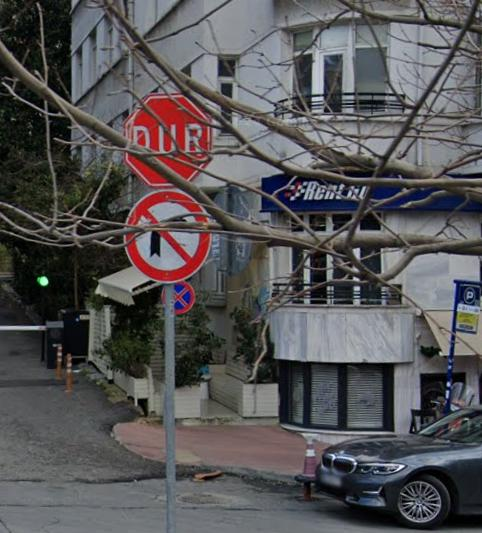rightturnsareforbidden: (128, 192, 214, 278)
stop: (125, 94, 213, 183)
